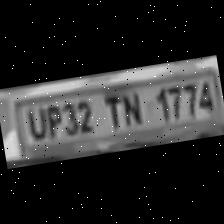1: (148, 81, 178, 125)
2: (68, 94, 98, 137)
3: (58, 96, 82, 138)
4: (190, 72, 216, 116)
7: (162, 77, 186, 125), (176, 76, 198, 120)
N: (113, 85, 146, 130)
P: (40, 100, 64, 140)
T: (96, 88, 128, 132)
U: (19, 100, 48, 143)
